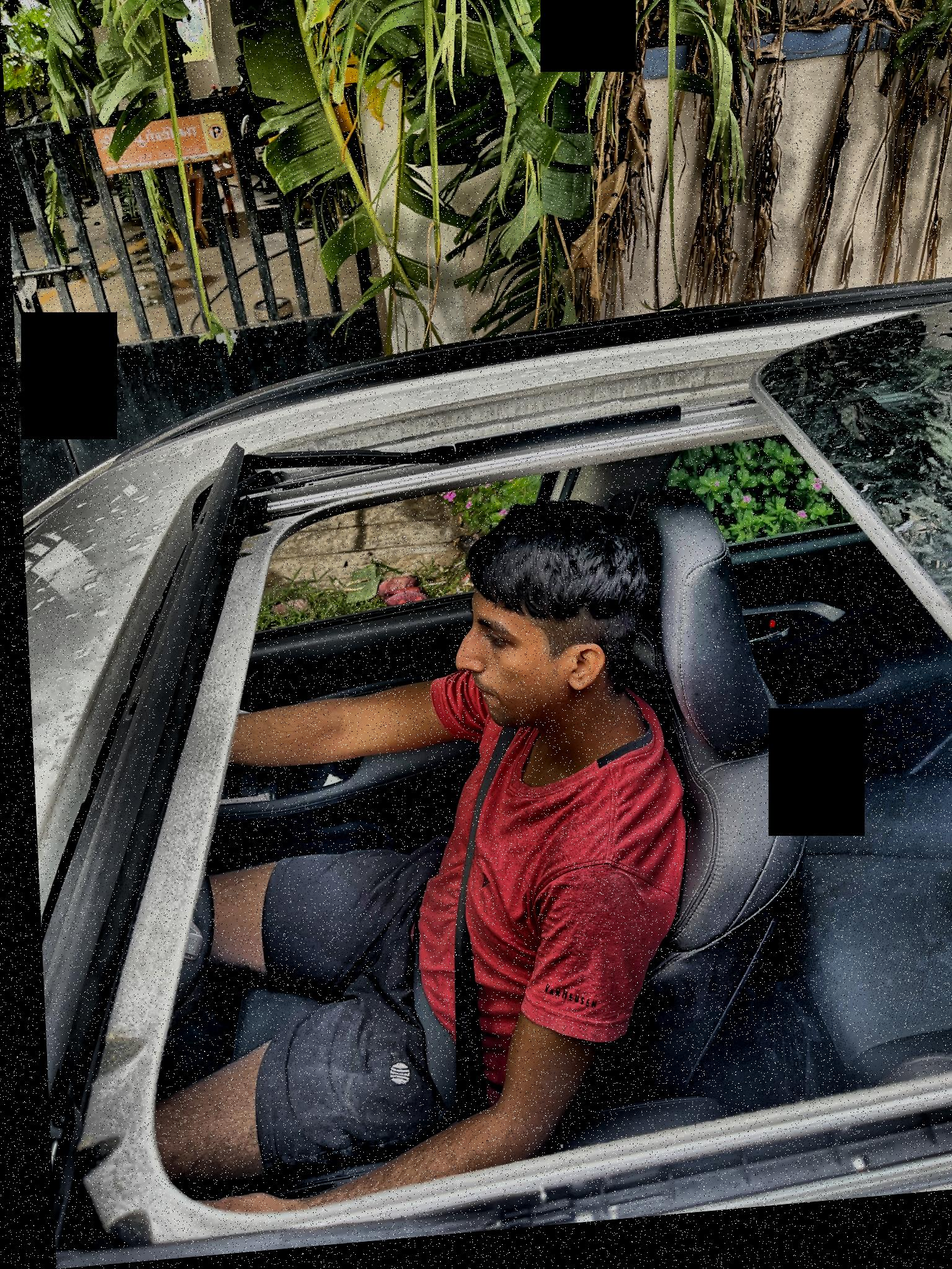seatbelt: (408, 721, 541, 1137)
